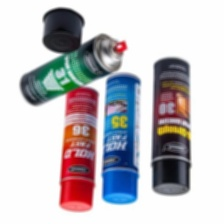aerosol_cans: (17, 29, 129, 109), (149, 54, 194, 197), (98, 68, 142, 207), (56, 82, 101, 215)
